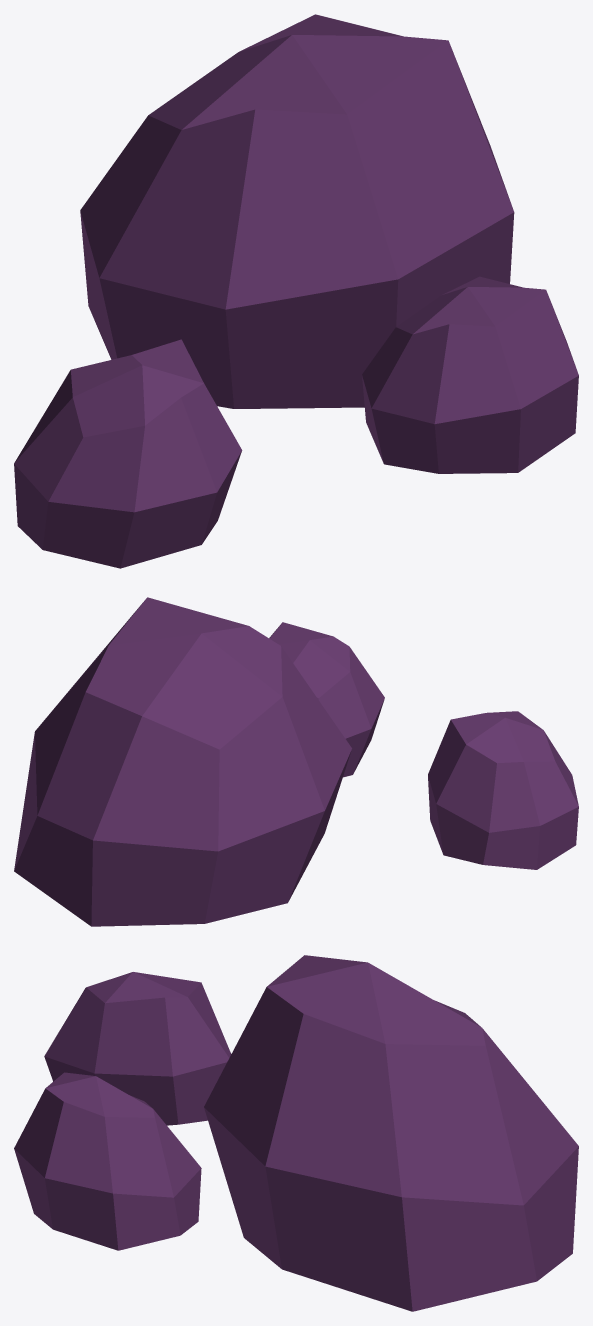
File: Rocks 1.fbx
3 renders of one model, top to bottom at view 1: azimuth 30°, elevation 25°; view 2: azimuth 150°, elevation 25°; view 3: azimuth 270°, elevation 25°, orthographic. The views are drawn at different scales.
Visible parts, largest first — view 1: Cube.081, Cube.079, Cube.077; view 2: Cube.081, Cube.079, Cube.077; view 3: Cube.081, Cube.077, Cube.079.
Part boxes in pixels (box(x1,y1,x2,y2)): Cube.081: box(80, 14, 514, 408); Cube.079: box(14, 339, 242, 568); Cube.077: box(362, 276, 578, 473); Cube.081: box(14, 597, 351, 926); Cube.079: box(428, 711, 578, 869); Cube.077: box(269, 622, 384, 777); Cube.081: box(204, 955, 578, 1311); Cube.077: box(14, 1072, 201, 1250); Cube.079: box(44, 972, 231, 1125).
Bounding box in the file's own units: 383 × 229 × 372.
